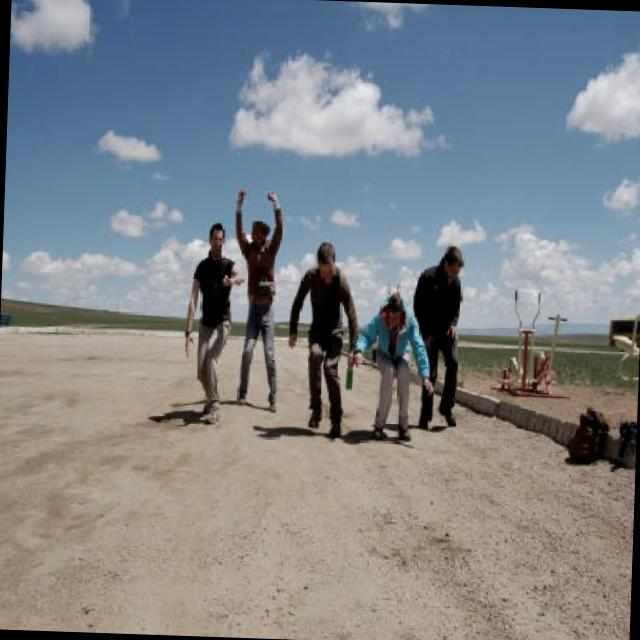Person: (284, 237, 362, 438), (350, 286, 440, 447), (226, 182, 286, 414), (180, 222, 246, 428), (414, 242, 466, 424)
